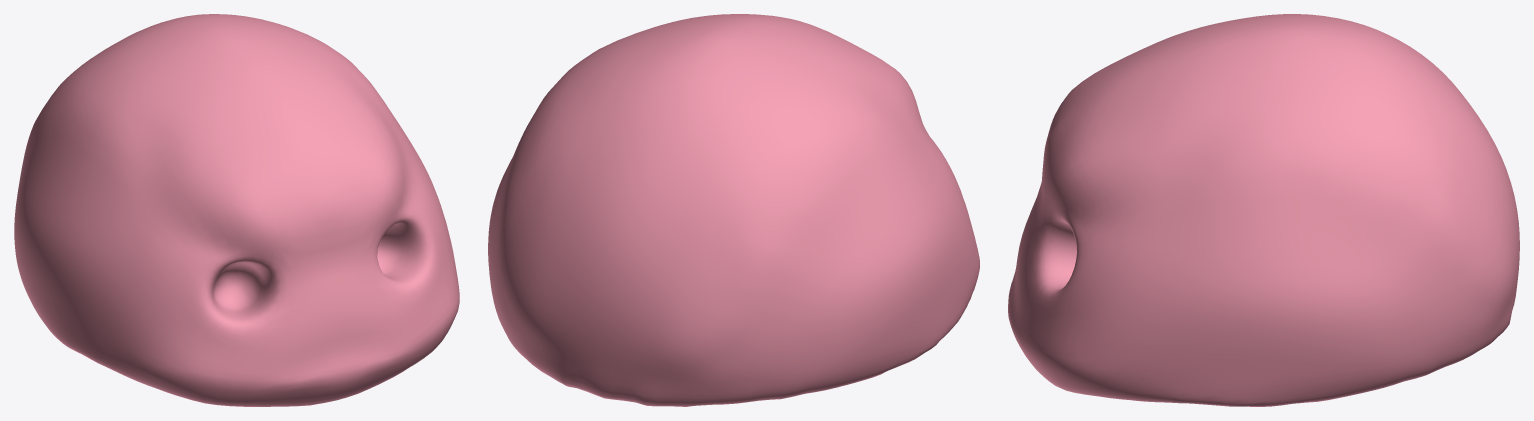
The model's file is Head_Human.fbx.
The picture shows the model from 3 angles, left to right: view 1: azimuth 30°, elevation 25°; view 2: azimuth 150°, elevation 25°; view 3: azimuth 270°, elevation 25°; orthographic projection. The views are drawn at different scales.
Visible parts, largest first — view 1: ObjHead; view 2: ObjHead; view 3: ObjHead.
Part boxes in pixels (<box>): ObjHead: <box>14,14,459,406</box>; ObjHead: <box>488,14,979,406</box>; ObjHead: <box>1008,14,1519,406</box>.
Bounding box in the file's own units: 168 × 126 × 186.
